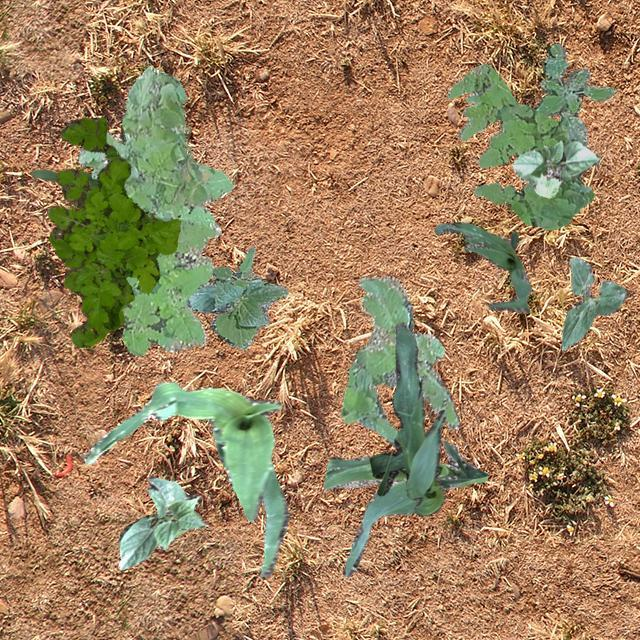crop: (82, 380, 288, 576), (322, 440, 488, 576), (368, 322, 446, 516), (186, 245, 288, 348), (434, 222, 530, 312), (118, 474, 206, 568), (30, 122, 126, 188), (560, 256, 626, 350), (511, 138, 598, 196)
weed: (78, 64, 234, 356), (46, 115, 180, 348), (446, 62, 594, 230), (339, 276, 458, 446), (534, 42, 614, 146)
